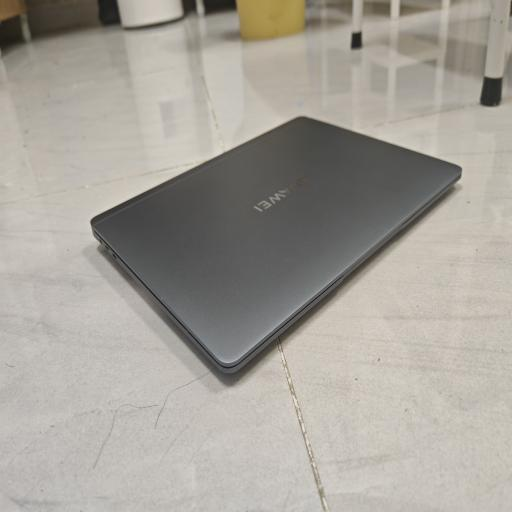laptop: (91, 117, 461, 372)
